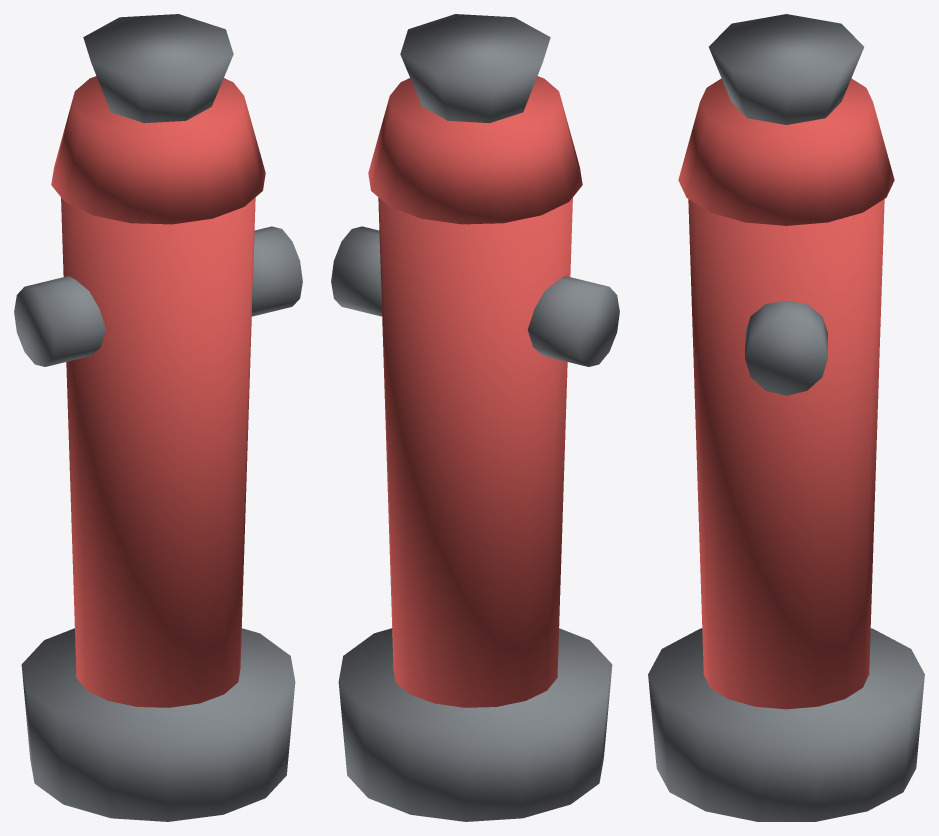
File: ext_hydrant.glb
3 renders of one model, left to right at view 1: azimuth 30°, elevation 25°; view 2: azimuth 150°, elevation 25°; view 3: azimuth 270°, elevation 25°, orthographic.
Parts seen in each view (by area): view 1: Hydrant; view 2: Hydrant; view 3: Hydrant.
Boxes of the visible parts, box(x1,y1,x2,y2) form: Hydrant: box(14, 14, 302, 821); Hydrant: box(331, 14, 619, 821); Hydrant: box(648, 14, 924, 821).
Bounding box in the file's own units: 0.33 × 0.92 × 0.32.
